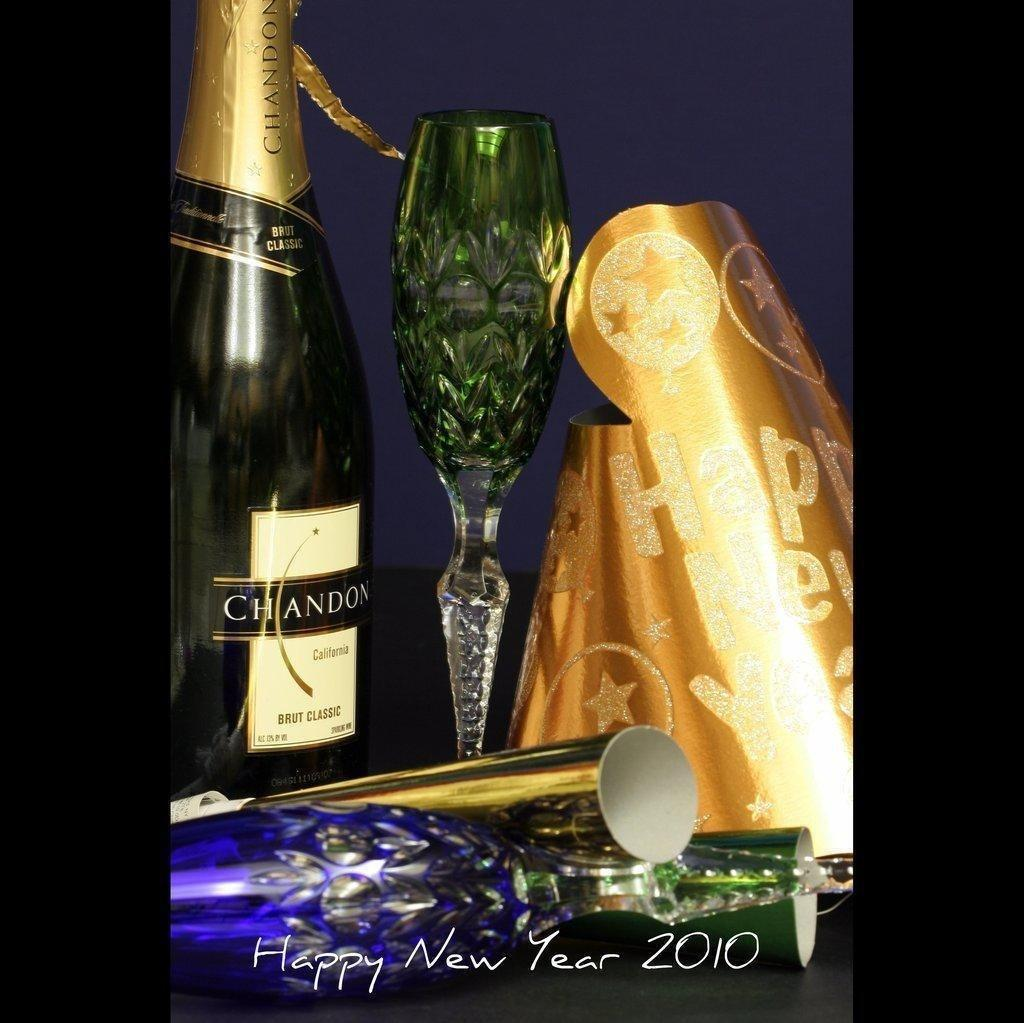bottle-glass: (156, 1, 381, 789)
glass-wine: (377, 100, 577, 762)
